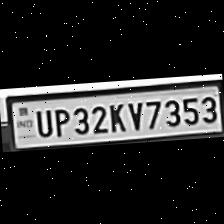2: (88, 100, 107, 134)
3: (70, 102, 90, 134), (160, 96, 180, 127), (198, 92, 216, 123)
5: (179, 93, 199, 124)
7: (141, 97, 161, 128)
K: (105, 100, 126, 132)
P: (50, 104, 71, 136)
U: (32, 104, 52, 136)
V: (124, 98, 144, 130)
